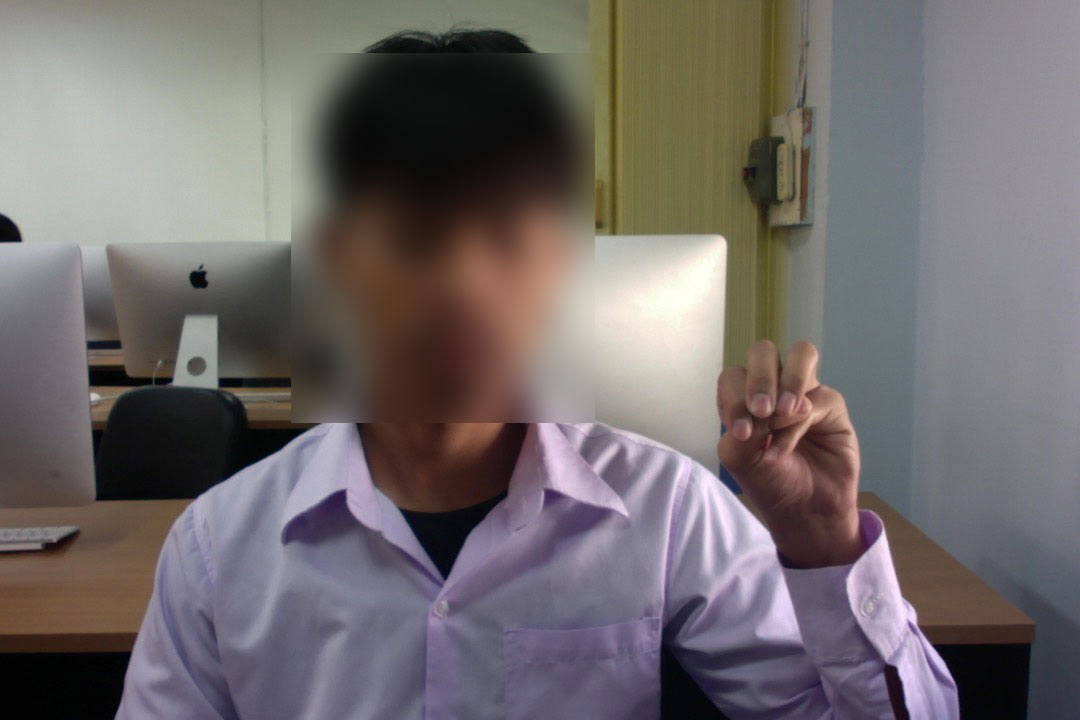mor: (703, 330, 876, 535)
